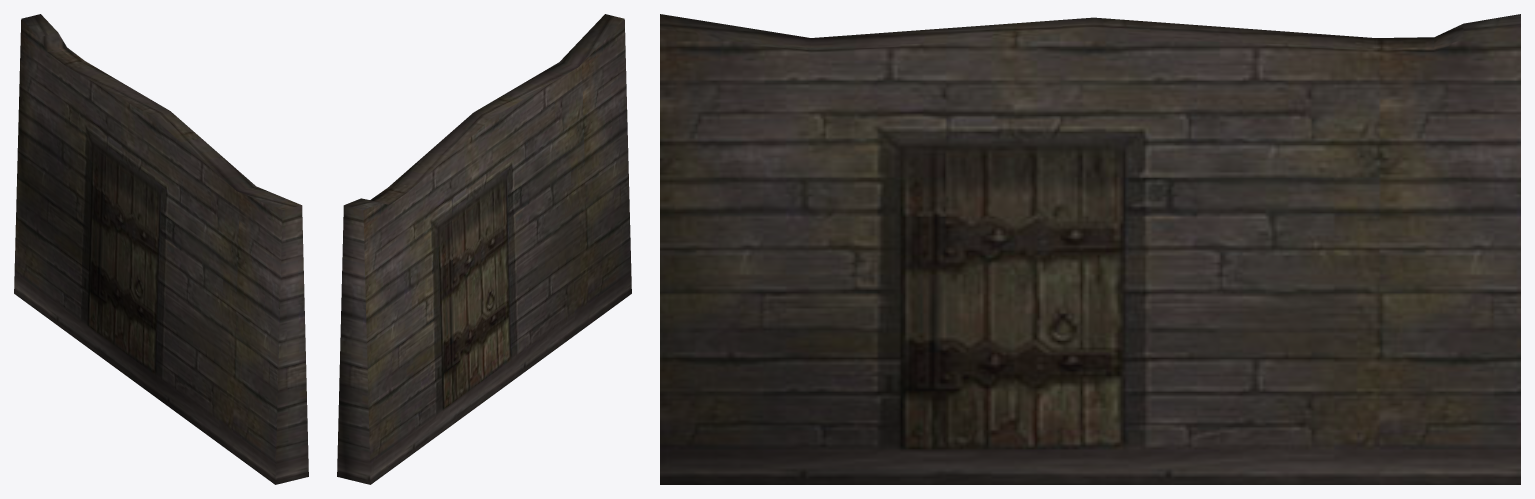
File: Battle05_Wall_01.FBX
3 views of the same model, side by side, from view 1: azimuth 30°, elevation 25°; view 2: azimuth 150°, elevation 25°; view 3: azimuth 270°, elevation 25° (orthographic). The views are drawn at different scales.
Parts seen in each view (by area): view 1: Battle05_Wall_01; view 2: Battle05_Wall_01; view 3: Battle05_Wall_01.
Boxes of the visible parts, bbox=[...] form: Battle05_Wall_01: bbox=[14, 14, 308, 484]; Battle05_Wall_01: bbox=[337, 14, 631, 484]; Battle05_Wall_01: bbox=[660, 14, 1520, 484].
Bounding box in the file's own units: 0.6606 × 5.14 × 8.92.
